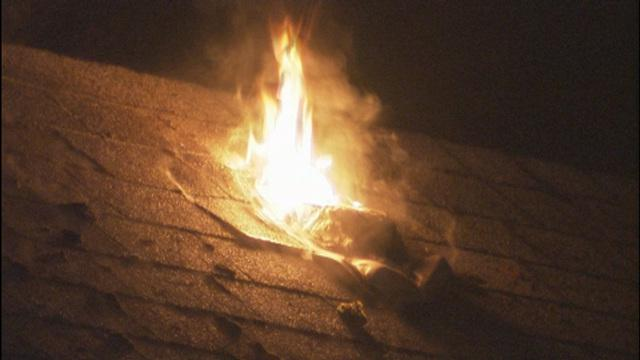fire: (230, 20, 385, 267)
